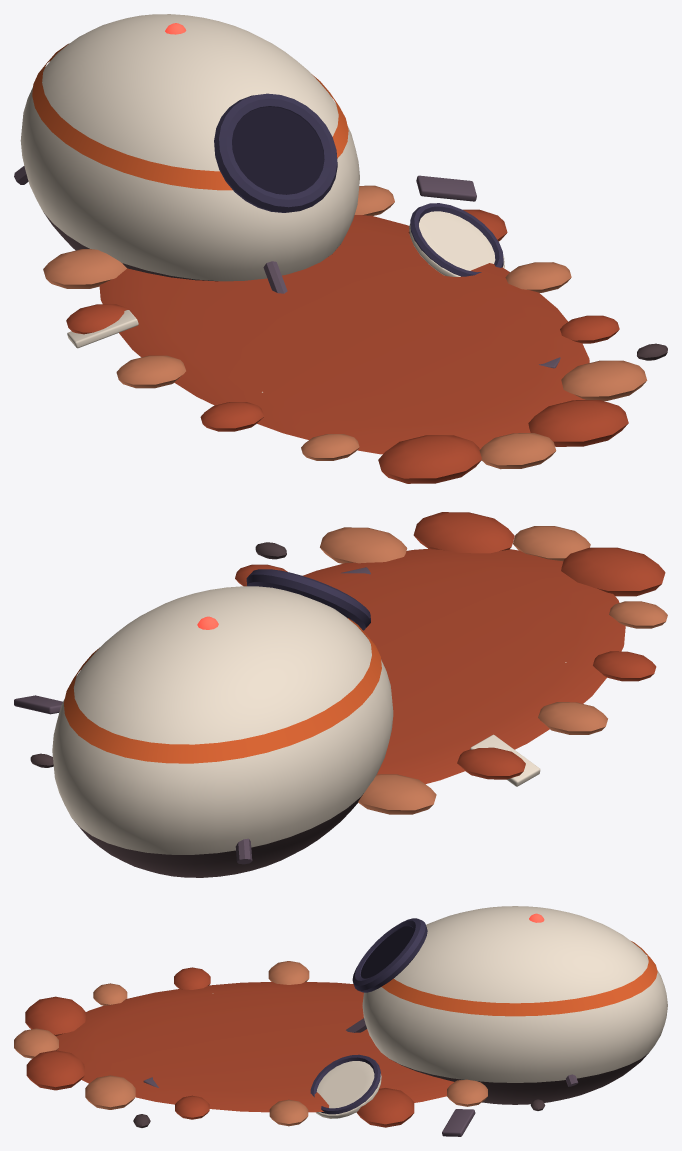
File: crash_pod.glb
3 views of the same model, one above another, from view 1: azimuth 30°, elevation 25°; view 2: azimuth 150°, elevation 25°; view 3: azimuth 270°, elevation 25° (orthographic). The views are drawn at different scales.
Visible parts, largest first — view 1: crash_pod; view 2: crash_pod; view 3: crash_pod.
Part boxes in pixels (bbox=[...]): crash_pod: bbox=[14, 14, 667, 483]; crash_pod: bbox=[14, 512, 667, 877]; crash_pod: bbox=[14, 906, 667, 1136].
Size of the model in its own units: 5.63 by 2.78 by 9.25.
